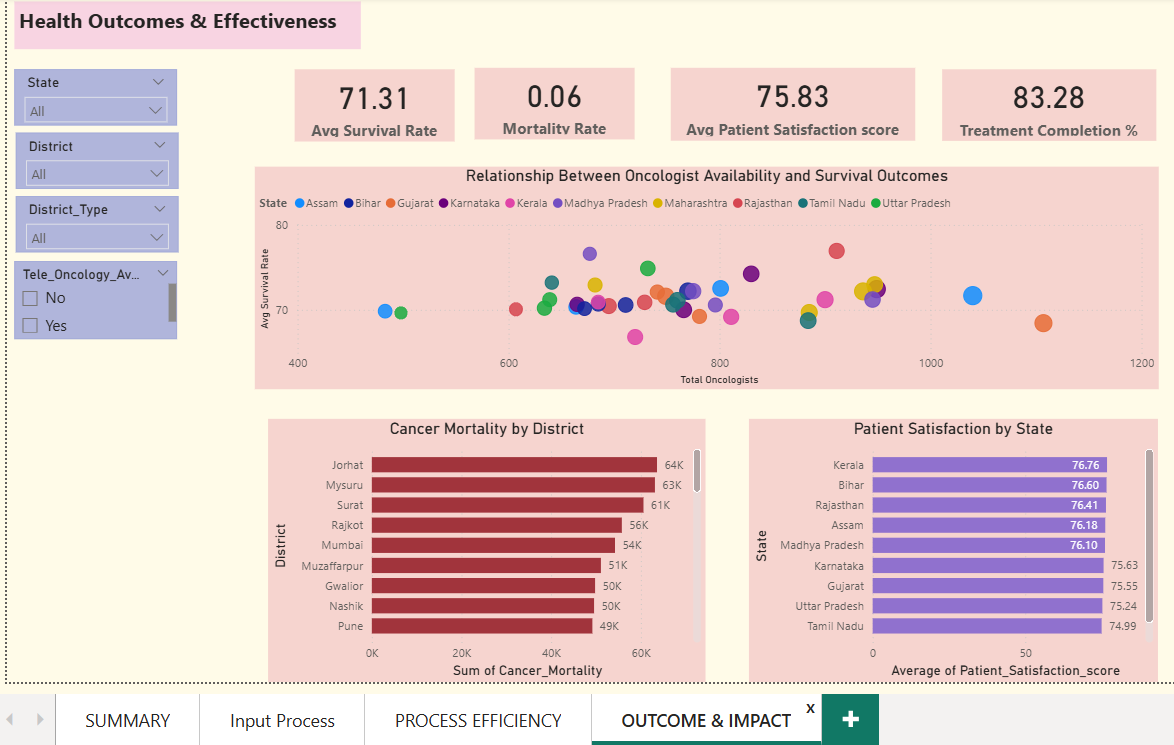

The page's visual inventory and layout, read from the dashboard file:
{"tool":"powerbi","page":{"name":"OUTCOME & IMPACT","canvas":[1280,720],"ordinal":3},"visuals":[{"type":"slicer","fields":{"Values":["Sheet1.State"]},"box":[8.2,76.4,171,59.1],"z":0},{"type":"slicer","fields":{"Values":["Sheet1.District"]},"box":[9.1,142.7,171,59.1],"z":1000},{"type":"slicer","fields":{"Values":["Sheet1.District_Type"]},"box":[9.1,210,171,59.1],"z":2000},{"type":"slicer","fields":{"Values":["Sheet1.Tele_Oncology_Available"]},"box":[8.2,278.2,171,81.8],"z":3000},{"type":"textbox","box":[8,4,364,50],"z":5000},{"type":"card","fields":{"Values":["Sheet1.Avg Survival Rate"]},"box":[302,76,168,76],"z":6000},{"type":"card","fields":{"Values":["Sheet1.Mortality Rate"]},"box":[491.7,75,168.3,75],"z":7000},{"type":"card","fields":{"Values":["Avg(Sheet1.Patient_Satisfaction_score)"]},"box":[696.7,75,256.7,76.7],"z":8000},{"type":"card","fields":{"Values":["Sheet1.Treatment Completion %"]},"box":[983.3,76.7,225,75],"z":10000},{"type":"scatterChart","title":"Relationship Between Oncologist Availability and Survival Outcomes","fields":{"Category":["Sheet1.District"],"Series":["Sheet1.State"],"Size":["Sum(Sheet1.Population_Total)"],"X":["Sheet1.Total Oncologists"],"Y":["Sheet1.Avg Survival Rate"]},"box":[260,178,950,234],"z":10001},{"type":"clusteredBarChart","title":"Cancer Mortality by District","fields":{"Category":["Sheet1.District"],"Y":["Sum(Sheet1.Cancer_Mortality)"]},"box":[275,442.5,460,277.5],"z":10002},{"type":"clusteredBarChart","title":"Patient Satisfaction by State","fields":{"Category":["Sheet1.State"],"Y":["Avg(Sheet1.Patient_Satisfaction_score)"]},"box":[780,442.5,430,277.5],"z":10003}]}

Visuals, with their boxes on the page's 1280x720 design canvas (x1, y1, x2, y2). These are canvas units, not pixel positions in the 1174x745 screenshot, which may show the page scaled, cropped or inside an application window:
slicer - Sheet1.State: <box>8,76,179,136</box>
slicer - Sheet1.District: <box>9,143,180,202</box>
slicer - Sheet1.District_Type: <box>9,210,180,269</box>
slicer - Sheet1.Tele_Oncology_Available: <box>8,278,179,360</box>
textbox: <box>8,4,372,54</box>
card - Sheet1.Avg Survival Rate: <box>302,76,470,152</box>
card - Sheet1.Mortality Rate: <box>492,75,660,150</box>
card - Avg(Sheet1.Patient_Satisfaction_score): <box>697,75,953,152</box>
card - Sheet1.Treatment Completion %: <box>983,77,1208,152</box>
"Relationship Between Oncologist Availability and Survival Outcomes" scatterChart: <box>260,178,1210,412</box>
"Cancer Mortality by District" clusteredBarChart: <box>275,442,735,720</box>
"Patient Satisfaction by State" clusteredBarChart: <box>780,442,1210,720</box>
